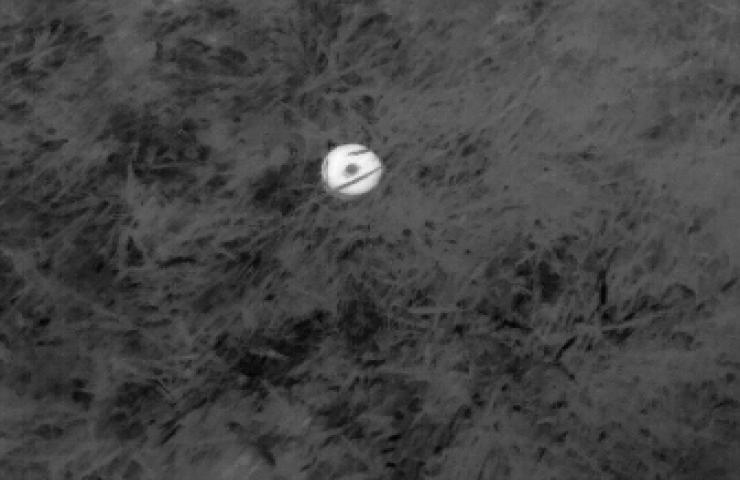landmines: (318, 139, 388, 202)
